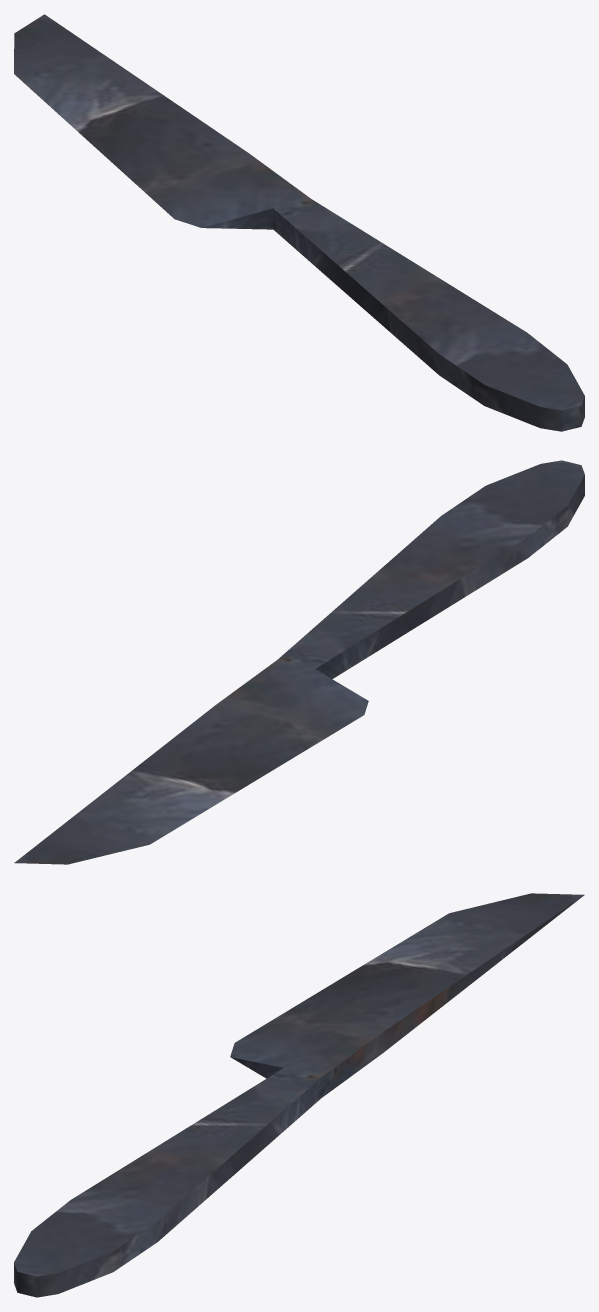
Rendered from tr_knife.glb.
The picture shows the model from 3 angles, top to bottom: view 1: azimuth 30°, elevation 25°; view 2: azimuth 150°, elevation 25°; view 3: azimuth 330°, elevation 25°; orthographic projection.
Visible parts, largest first — view 1: model; view 2: model; view 3: model.
Part boxes in pixels (left/top/right/bottom): model: left=14, top=14, right=584, bottom=431; model: left=14, top=460, right=584, bottom=864; model: left=14, top=893, right=584, bottom=1297.
Bounding box in the file's own units: 0.0417 × 0.00616 × 0.2866.
1 material, 1 textured.
